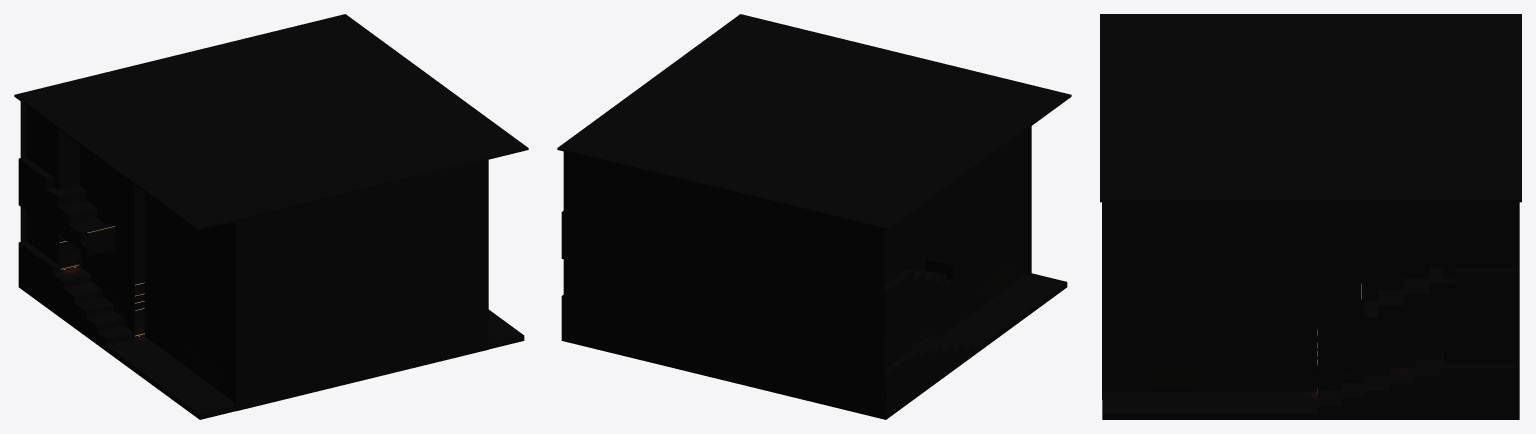
Rendered from hall6.glb.
The picture shows the model from 3 angles, left to right: view 1: azimuth 30°, elevation 25°; view 2: azimuth 150°, elevation 25°; view 3: azimuth 270°, elevation 25°; orthographic projection. The views are drawn at different scales.
Visible parts, largest first — view 1: bake_room, bake_walls, bake_floor; view 2: bake_room, bake_floor, bake_walls; view 3: bake_room, bake_walls, bake_floor.
Boxes of the visible parts, box(x1,y1,x2,y2) form: bake_room: box(14, 14, 528, 411); bake_walls: box(26, 106, 234, 401); bake_floor: box(18, 157, 524, 419); bake_room: box(557, 14, 1071, 419); bake_floor: box(561, 211, 1067, 419); bake_walls: box(885, 129, 1027, 368); bake_room: box(1100, 14, 1521, 399); bake_walls: box(1104, 202, 1517, 391); bake_floor: box(1102, 267, 1519, 419).
Bounding box in the file's own units: 19 × 10.56 × 18.2.
11 materials, 3 textured.
